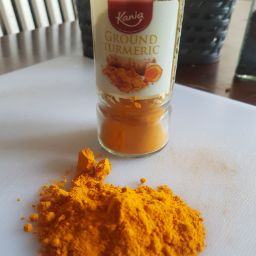Turmeric dried: (22, 145, 214, 256), (6, 176, 187, 256), (84, 9, 179, 148), (62, 195, 179, 245)
